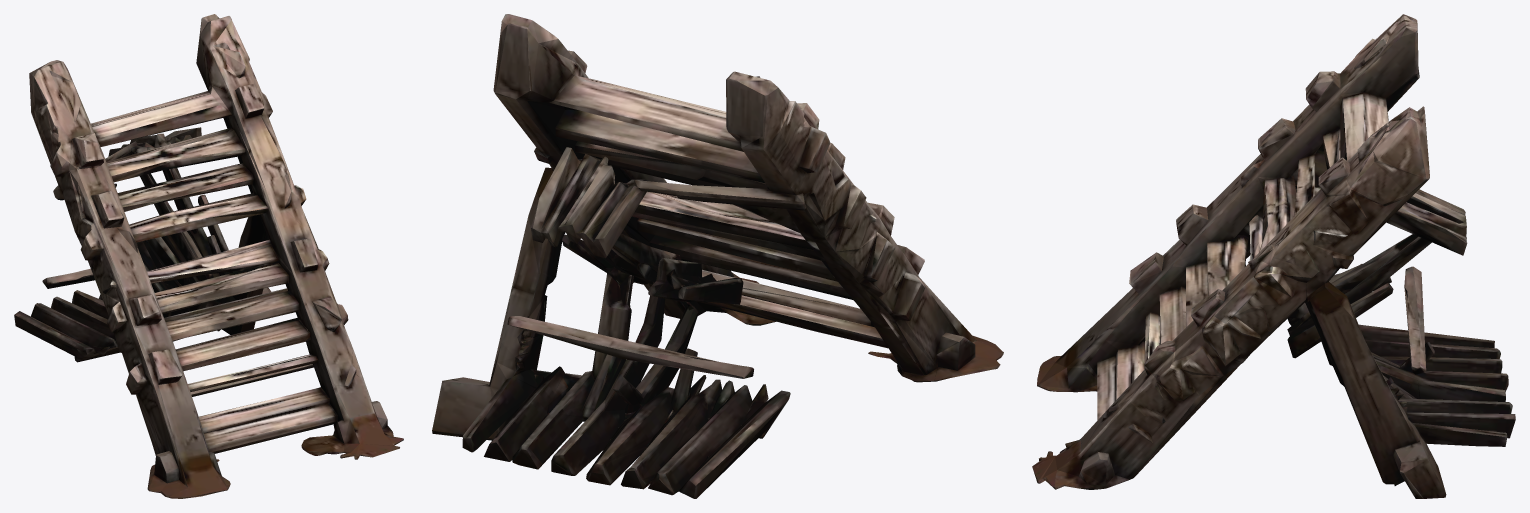
Rendered from field_broken_ladder_01.glb.
The picture shows the model from 3 angles, left to right: view 1: azimuth 30°, elevation 25°; view 2: azimuth 150°, elevation 25°; view 3: azimuth 270°, elevation 25°; orthographic projection. The views are drawn at different scales.
Parts seen in each view (by area): view 1: geometry_0; view 2: geometry_0; view 3: geometry_0.
Boxes of the visible parts, box(x1,y1,x2,y2) form: geometry_0: box(14, 14, 403, 498); geometry_0: box(432, 14, 1003, 498); geometry_0: box(1032, 14, 1515, 498).
Size of the model in its own units: 0.7299 by 0.8265 by 0.9975.
1 material, 1 textured.
